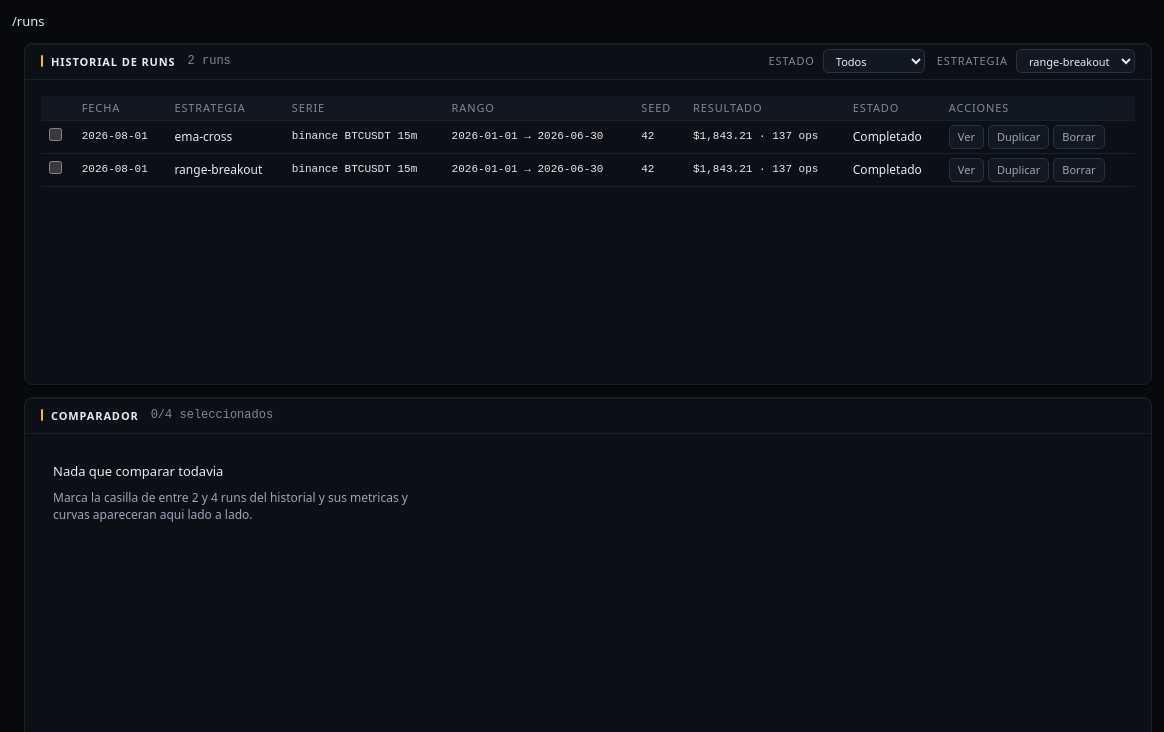
Test: Runs › filtra por estrategia sin volver a pedir al API
Check: the number of rows is 3, box [41,96,1135,120]; [41,120,1135,153]; [41,153,1135,186]
Select "range-breakout" in the dropdown labelled "Estrategia" at (1076, 61), box [1016,49,1135,73]
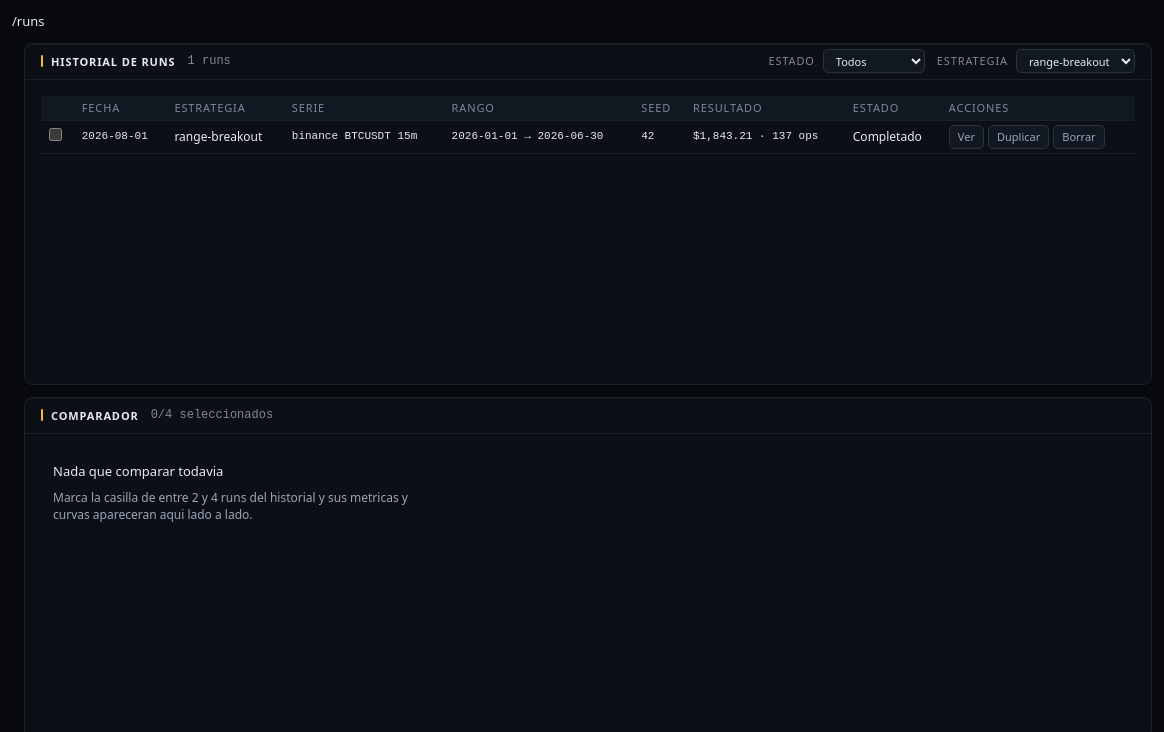
Check: the number of rows is 2, box [41,96,1135,120]; [41,120,1135,153]
